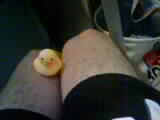duck: (28, 48, 63, 78)
